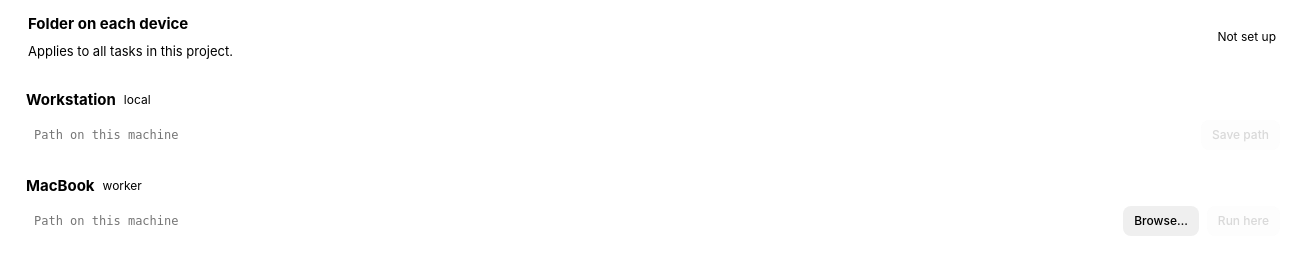
Test: ProjectWorkspaceHosts › does not change server settings when the folder check fails
Type "~/missing" into the field named "Path on this machine · MacBook" at {"x": 571, "y": 221}, box [26, 208, 1115, 234]
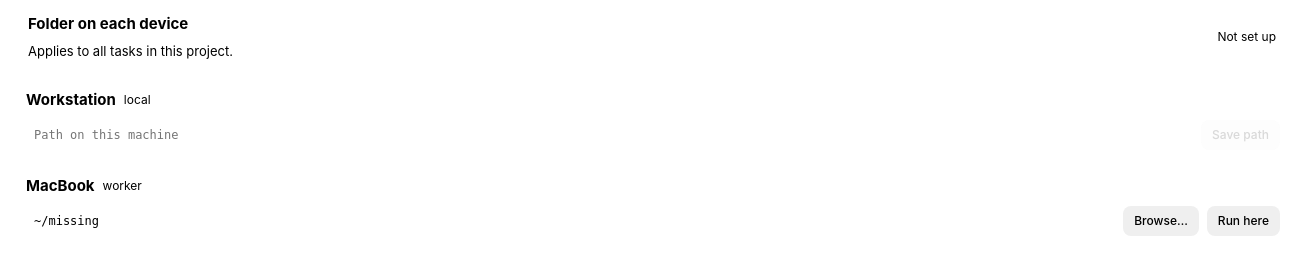
Click the button "Run here" at {"x": 1243, "y": 221}, box [1207, 206, 1280, 236]
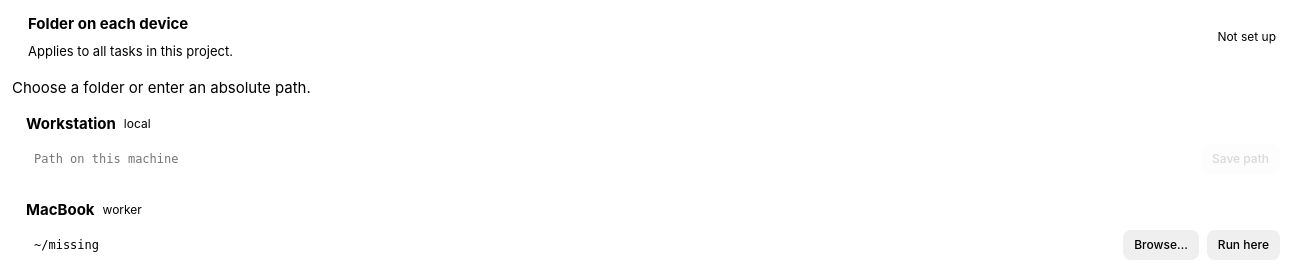
expect the message shows "Choose a folder": met, box [12, 78, 311, 97]
